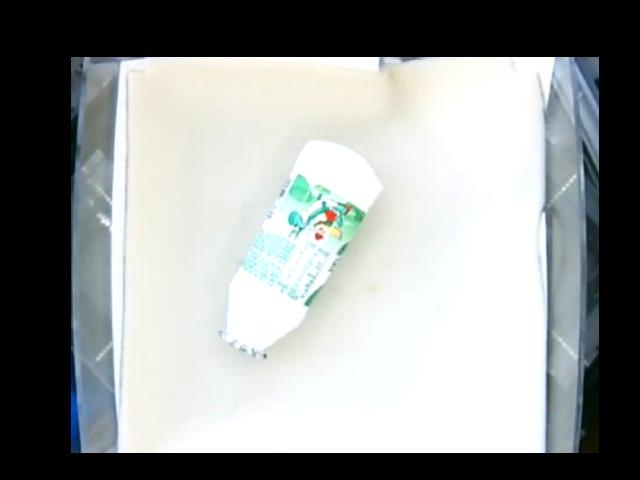Bottle: (218, 135, 383, 355)
